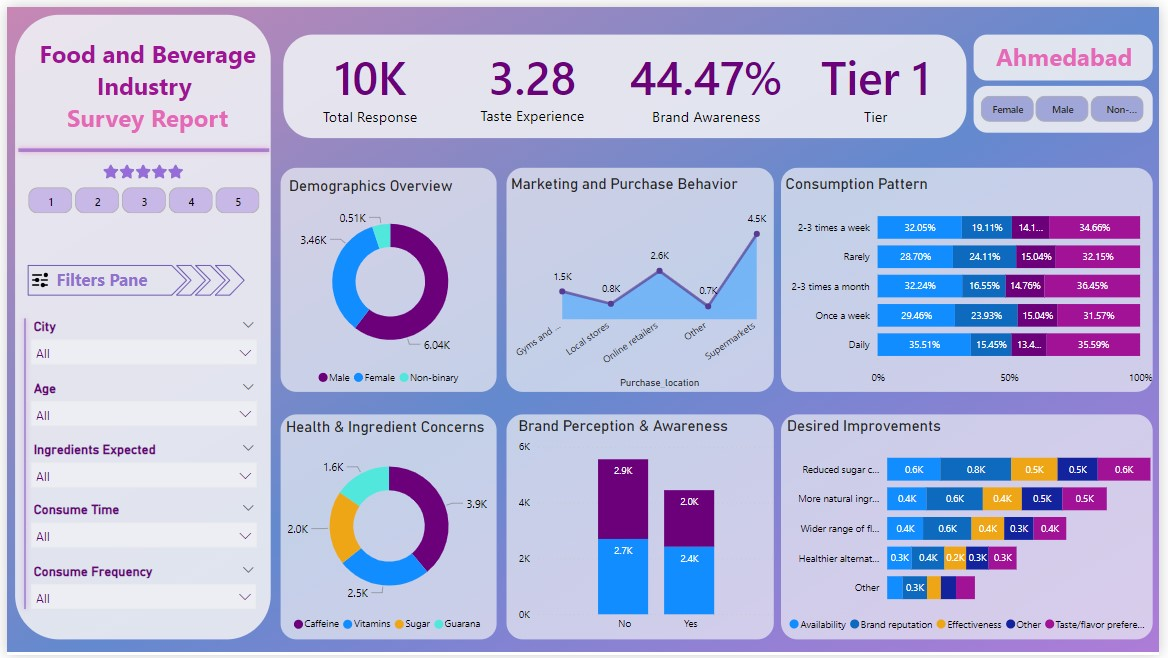

The dashboard page shown, as its layout file describes it:
{"tool":"powerbi","page":{"name":"Page 1","canvas":[1280,720],"ordinal":0},"visuals":[{"type":"donutChart","title":"Demographics Overview","fields":{"Category":["dim_repondents.Gender","dim_cities.City"],"Y":["CountNonNull(dim_repondents.Age)"]},"box":[307.9,187.6,234.4,240.7],"z":0},{"type":"hundredPercentStackedBarChart","title":"Consumption Pattern","fields":{"Category":["fact_survey_responses.Consume_frequency"],"Y":["CountNonNull(fact_survey_responses.Typical_consumption_situations)"],"Series":["fact_survey_responses.Consume_time"]},"box":[860,186.7,416.7,241.7],"z":1000},{"type":"columnChart","title":"Brand Perception & Awareness","fields":{"Category":["fact_survey_responses.Heard_before"],"Y":["CountNonNull(fact_survey_responses.Brand_perception)"],"Series":["fact_survey_responses.Tried_before"]},"box":[563.2,455.8,296.3,247.4],"z":2000},{"type":"donutChart","title":"Health & Ingredient Concerns","fields":{"Y":["CountNonNull(fact_survey_responses.Health_concerns)"],"Category":["fact_survey_responses.Ingredients_expected"]},"box":[305,456.7,238.3,246.7],"z":3000},{"type":"areaChart","title":"Marketing and Purchase Behavior","fields":{"Category":["fact_survey_responses.Purchase_location","fact_survey_responses.Marketing_channels"],"Y":["CountNonNull(fact_survey_responses.Price_range)"]},"box":[555.3,187.5,304.4,240.9],"z":4000},{"type":"barChart","title":"Desired Improvements","fields":{"Category":["fact_survey_responses.Improvements_desired"],"Series":["fact_survey_responses.Reasons_for_choosing_brands"],"Y":["CountNonNull(fact_survey_responses.Limited_edition_packaging)"]},"box":[861.7,455,414,248.3],"z":5000},{"type":"textbox","title":"Food and Beverage Industry Survey Report","box":[29.3,27.7,252.3,117.2],"z":6000},{"type":"card","fields":{"Values":["fact_survey_responses.Response_Count"]},"box":[300.4,28.1,206,117.2],"z":6000,"group":"g1"},{"type":"card","fields":{"Values":["fact_survey_responses.Brand_Awareness_Percentage"]},"box":[674.3,28.1,206.3,117.2],"z":7000,"group":"g1"},{"type":"slicer","fields":{"Values":["dim_cities.City"]},"box":[16.7,342.5,270.4,57.8],"z":7000},{"type":"card","fields":{"Values":["Avg(fact_survey_responses.Taste_experience)"]},"box":[480.4,28.1,206.7,116.7],"z":8000,"group":"g1"},{"type":"slicer","fields":{"Values":["dim_repondents.Age"]},"box":[16.7,409.7,270.4,57.8],"z":8000},{"type":"card","fields":{"Values":["Min(dim_cities.Tier)"]},"box":[861.5,28.1,206,117.2],"z":9000,"group":"g1"},{"type":"slicer","fields":{"Values":["fact_survey_responses.Consume_time"]},"box":[16.7,545.7,270.4,57.8],"z":9000},{"type":"slicer","fields":{"Values":["fact_survey_responses.Ingredients_expected"]},"box":[16.7,478.4,270.4,59.4],"z":10000},{"type":"slicer","fields":{"Values":["fact_survey_responses.Consume_frequency"]},"box":[16.4,613,270.2,58.6],"z":11000},{"type":"advancedSlicerVisual","fields":{"Values":["dim_repondents.Gender"]},"box":[1076.9,93.8,193.8,39.1],"z":12000},{"type":"advancedSlicerVisual","fields":{"Values":["fact_survey_responses.Taste_experience"]},"box":[18.4,195.8,270.4,39.1],"z":13000},{"type":"textbox","title":"Food and Beverage Industry Survey Report","box":[50,284.5,237.6,35.9],"z":14000},{"type":"card","fields":{"Values":["Min(dim_cities.City)"]},"box":[1076.9,34.4,195.4,42.2],"z":15000},{"type":"group","id":"g1","title":"Group 1","box":[300.4,28.1,767.1,117.2],"z":16000},{"type":"image","box":[21.9,287.6,29.7,29.7],"z":17000},{"type":"shape","box":[6.3,145.4,290.7,28.1],"z":18000},{"type":"image","box":[61.3,167.1,181.7,33.3],"z":19000},{"type":"shape","box":[3.3,340,33.3,335],"z":20000}]}

Visuals, with their boxes in screenshot pixels (x1, y1, x2, y2), scaled from the page's 1280x720 canvas onto the 1168x658 screenshot:
"Demographics Overview" donutChart: pyautogui.locateOnScreen(281, 171, 495, 391)
"Consumption Pattern" hundredPercentStackedBarChart: pyautogui.locateOnScreen(785, 171, 1165, 392)
"Brand Perception & Awareness" columnChart: pyautogui.locateOnScreen(514, 417, 784, 643)
"Health & Ingredient Concerns" donutChart: pyautogui.locateOnScreen(278, 417, 496, 643)
"Marketing and Purchase Behavior" areaChart: pyautogui.locateOnScreen(507, 171, 784, 392)
"Desired Improvements" barChart: pyautogui.locateOnScreen(786, 416, 1164, 643)
"Food and Beverage Industry Survey Report" textbox: pyautogui.locateOnScreen(27, 25, 257, 132)
card - fact_survey_responses.Response_Count: pyautogui.locateOnScreen(274, 26, 462, 133)
card - fact_survey_responses.Brand_Awareness_Percentage: pyautogui.locateOnScreen(615, 26, 804, 133)
slicer - dim_cities.City: pyautogui.locateOnScreen(15, 313, 262, 366)
card - Avg(fact_survey_responses.Taste_experience): pyautogui.locateOnScreen(438, 26, 627, 132)
slicer - dim_repondents.Age: pyautogui.locateOnScreen(15, 374, 262, 427)
card - Min(dim_cities.Tier): pyautogui.locateOnScreen(786, 26, 974, 133)
slicer - fact_survey_responses.Consume_time: pyautogui.locateOnScreen(15, 499, 262, 552)
slicer - fact_survey_responses.Ingredients_expected: pyautogui.locateOnScreen(15, 437, 262, 491)
slicer - fact_survey_responses.Consume_frequency: pyautogui.locateOnScreen(15, 560, 262, 614)
advancedSlicerVisual - dim_repondents.Gender: pyautogui.locateOnScreen(983, 86, 1160, 121)
advancedSlicerVisual - fact_survey_responses.Taste_experience: pyautogui.locateOnScreen(17, 179, 264, 215)
"Food and Beverage Industry Survey Report" textbox: pyautogui.locateOnScreen(46, 260, 262, 293)
card - Min(dim_cities.City): pyautogui.locateOnScreen(983, 31, 1161, 70)
"Group 1" group: pyautogui.locateOnScreen(274, 26, 974, 133)
image: pyautogui.locateOnScreen(20, 263, 47, 290)
shape: pyautogui.locateOnScreen(6, 133, 271, 159)
image: pyautogui.locateOnScreen(56, 153, 222, 183)
shape: pyautogui.locateOnScreen(3, 311, 33, 617)
